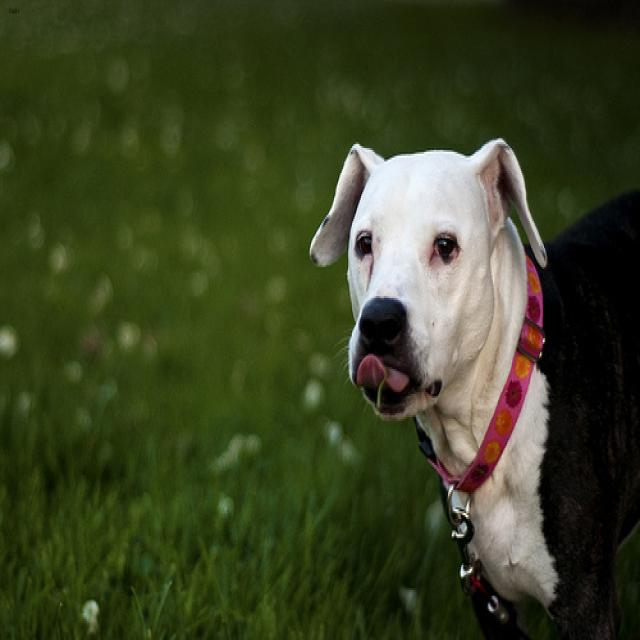dog-american_pit_bull_terrier: (303, 127, 637, 636)
